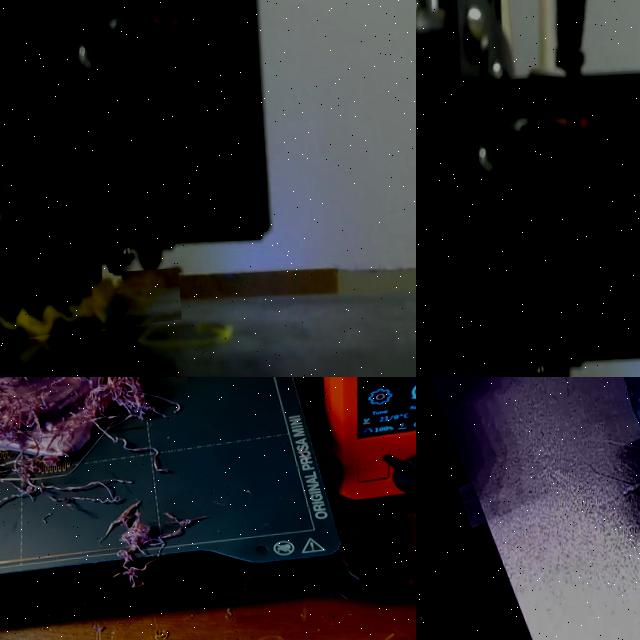spaghetti: (0, 377, 220, 522), (0, 268, 175, 338), (103, 496, 187, 612)
